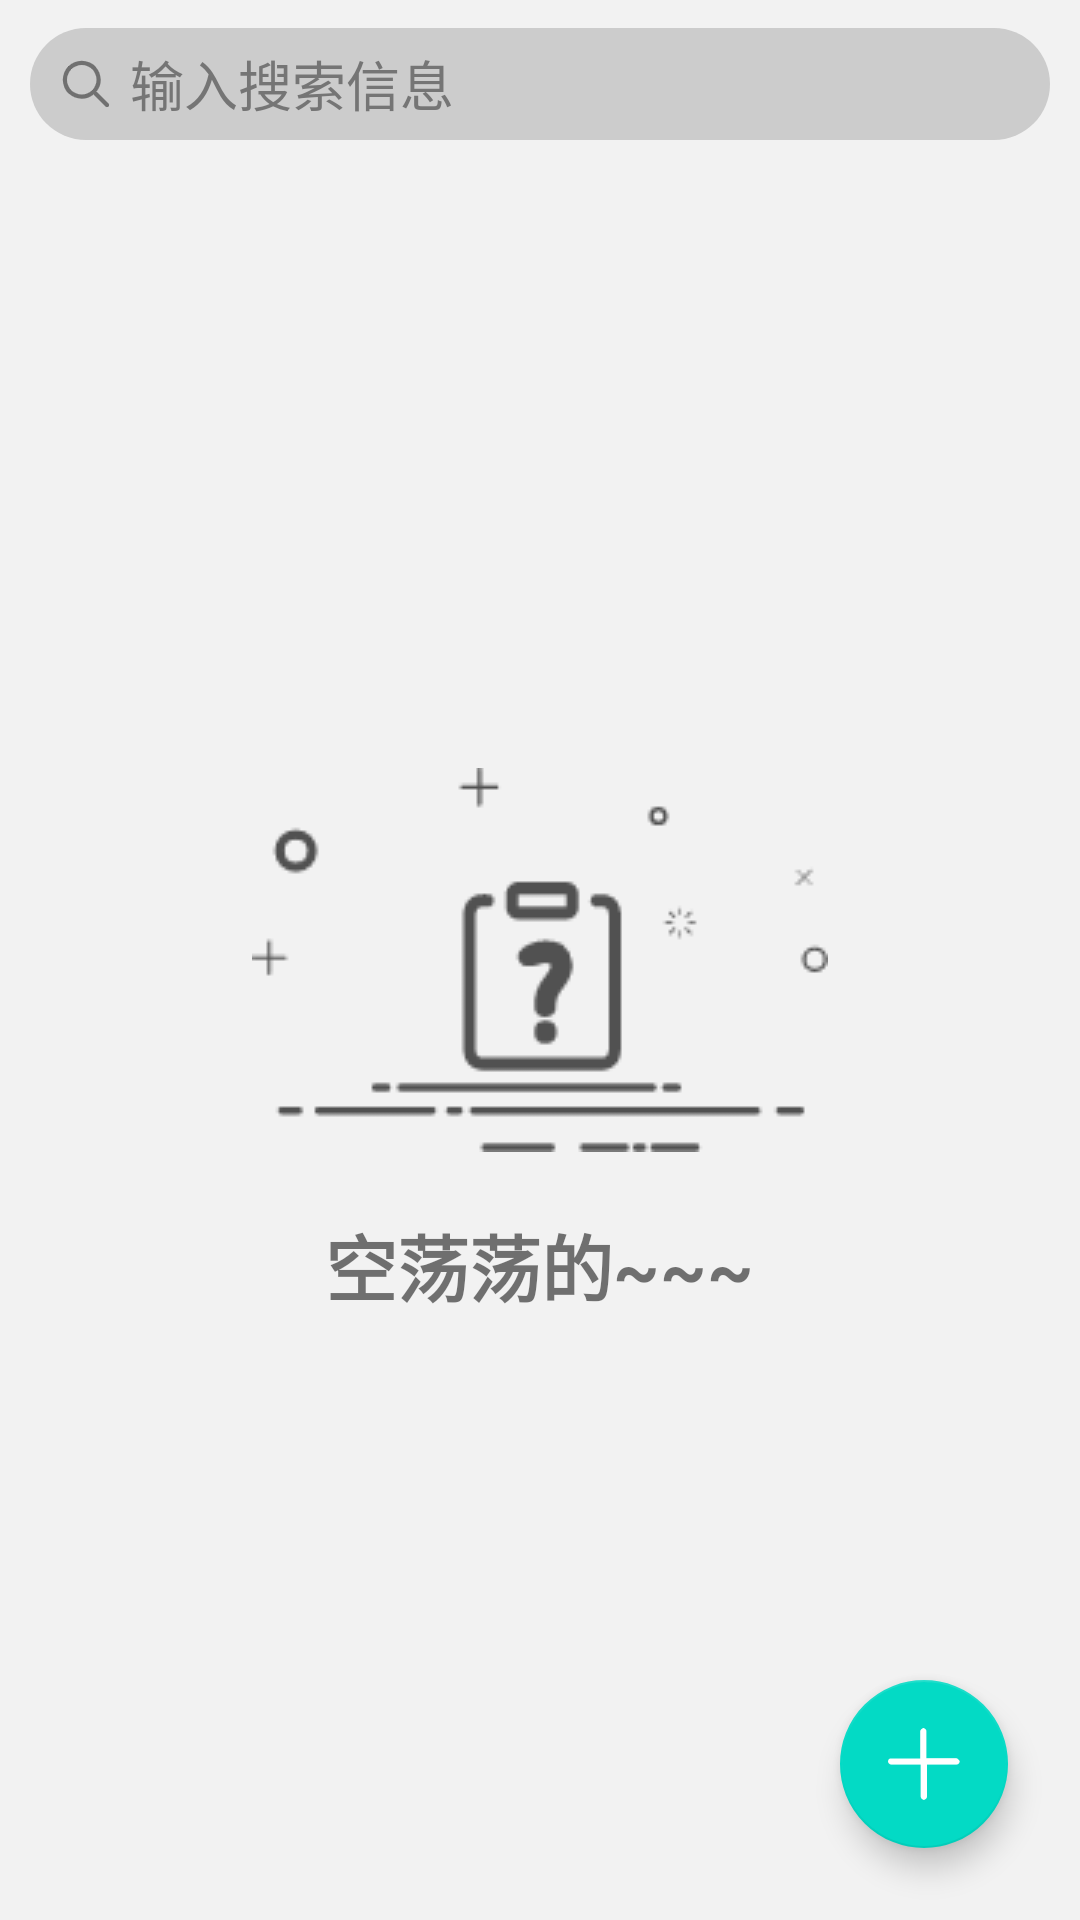

Screen size 1080px×1920px. Icon name, then its box in pixels as {"x1": x1, "y1": y1, "x2": x2, "y2": y2}:
search: {"x1": 63, "y1": 61, "x2": 109, "y2": 107}
添加日记: {"x1": 840, "y1": 1680, "x2": 1008, "y2": 1848}
